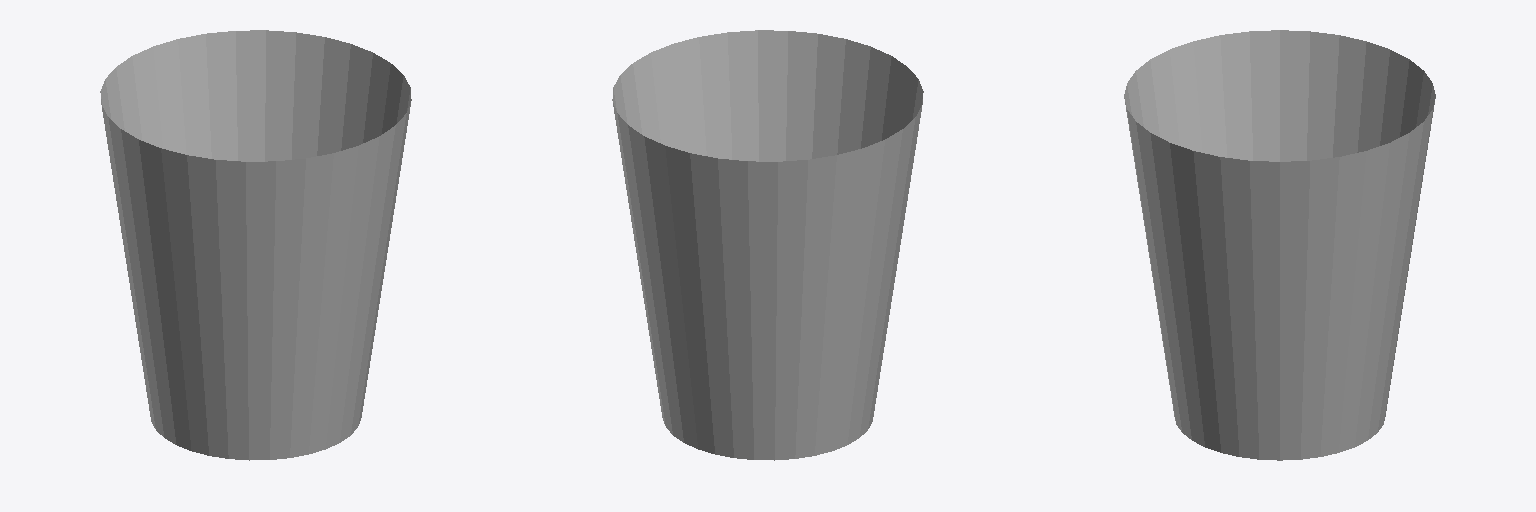
The model's file is trashcan.obj.
3 renders of one model, left to right at view 1: azimuth 30°, elevation 25°; view 2: azimuth 150°, elevation 25°; view 3: azimuth 270°, elevation 25°, orthographic.
Parts seen in each view (by area): view 1: Trash_Can_Cube; view 2: Trash_Can_Cube; view 3: Trash_Can_Cube.
Boxes of the visible parts, box(x1,y1,x2,y2) form: Trash_Can_Cube: box(100, 30, 411, 460); Trash_Can_Cube: box(612, 30, 923, 460); Trash_Can_Cube: box(1124, 30, 1435, 460).
Size of the model in its own units: 2.95 by 3.34 by 2.95.